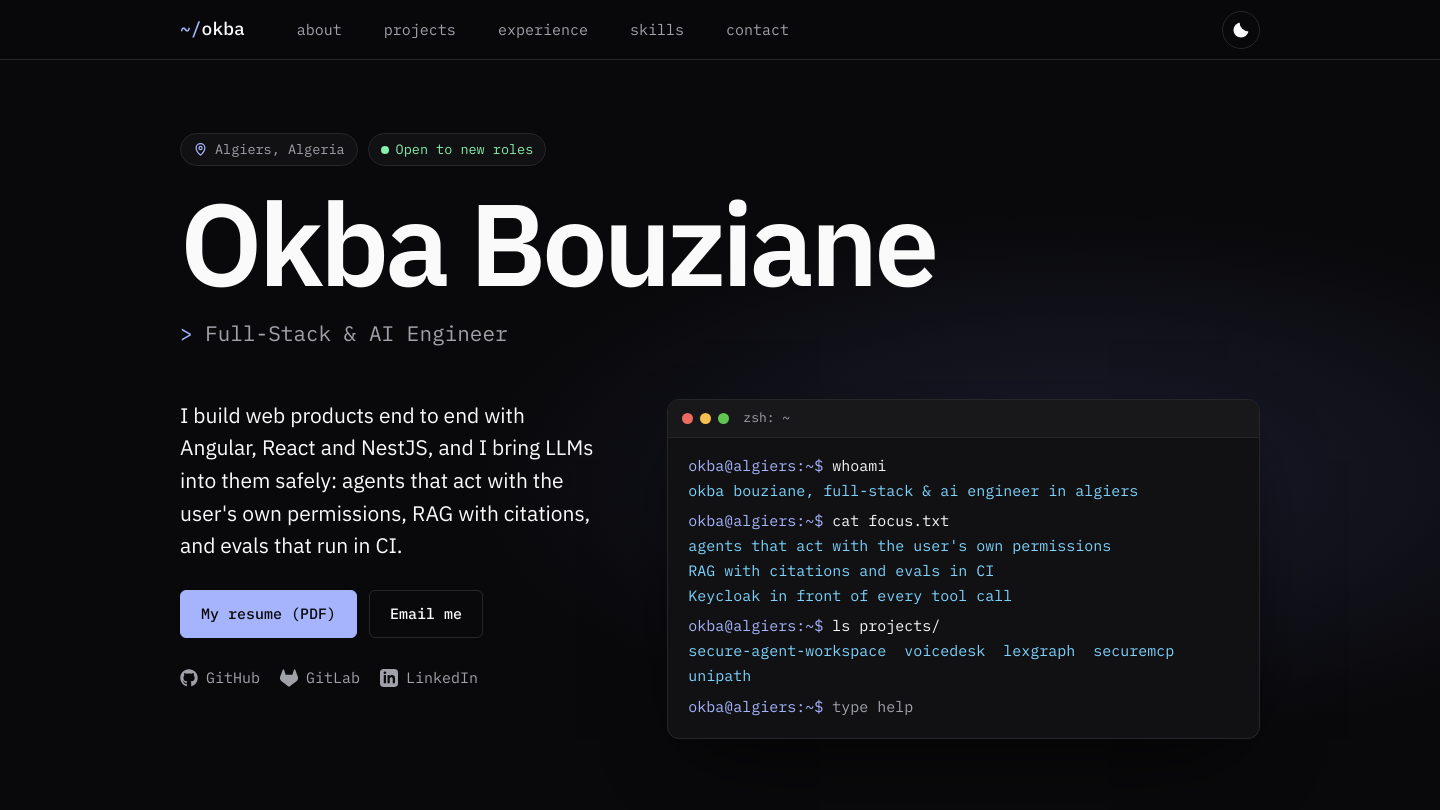
Test: terminal answers commands
Type "help" into the field named "terminal command". click: (1036, 707)
box: 832,695 -> 1239,719
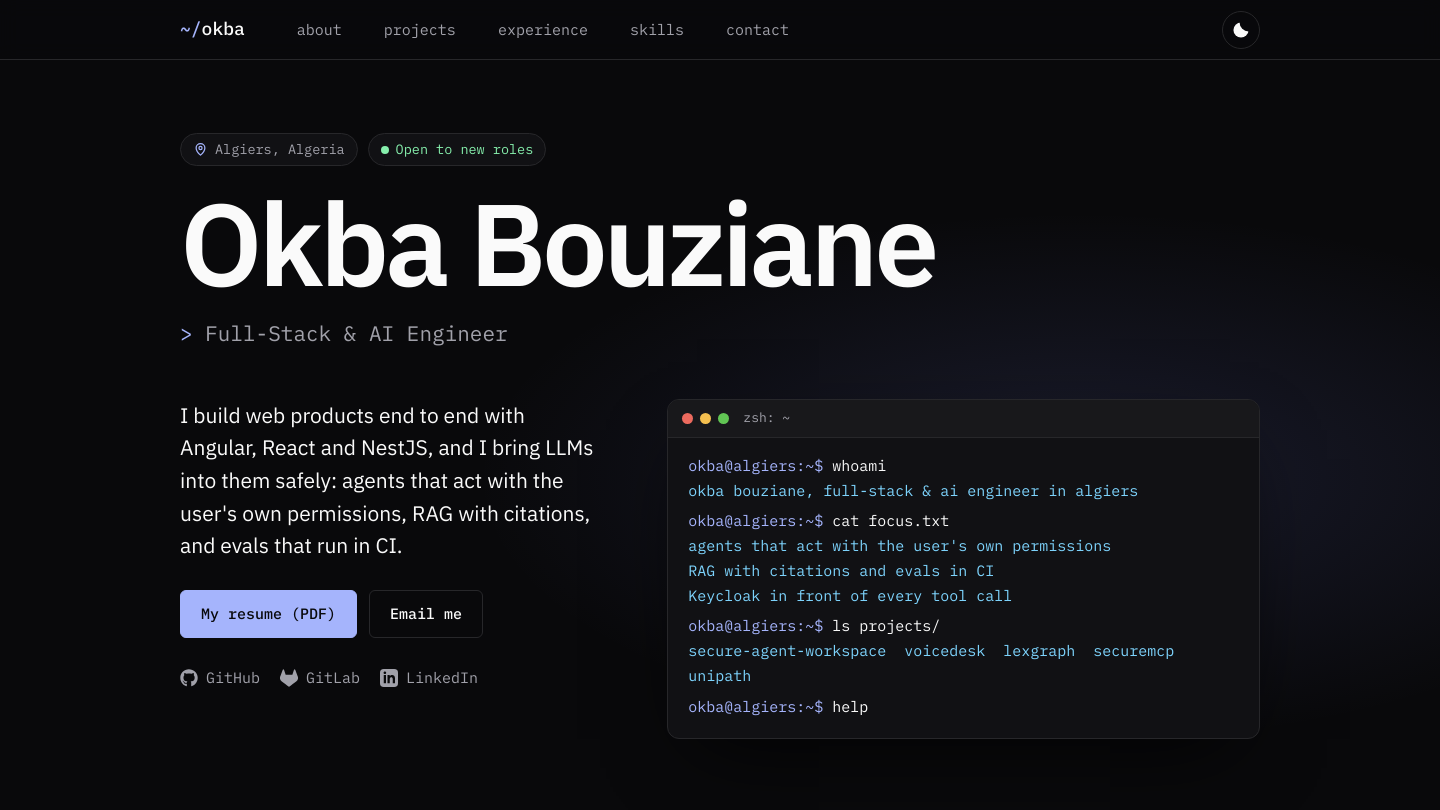
Press Enter in the field named "terminal command", box 832,695 -> 1239,719
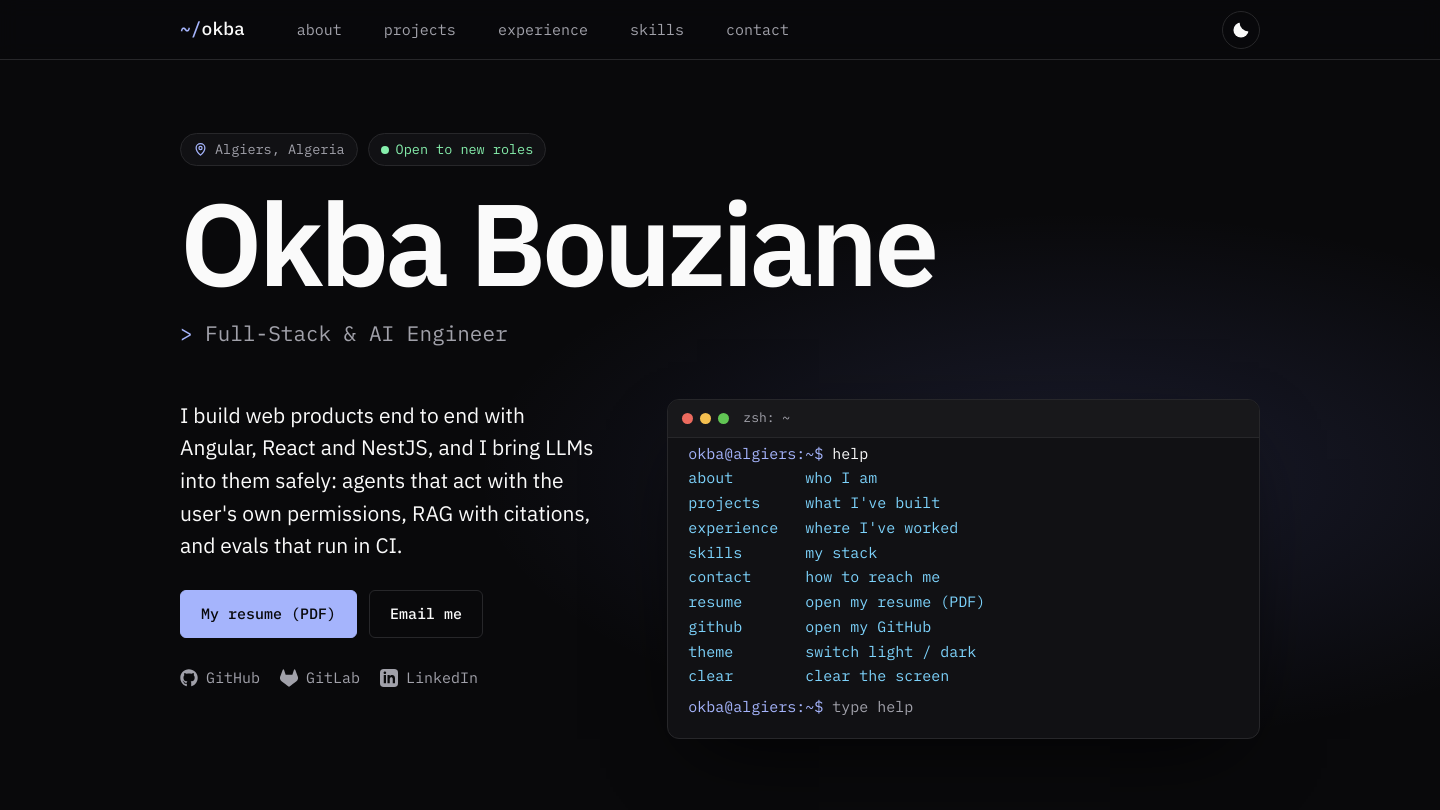
Expected: the text "resume open my resume (PDF)" is shown, 688,592 -> 985,611
Type "nope" into the field named "terminal command". click: (1036, 708)
box: 832,695 -> 1239,720
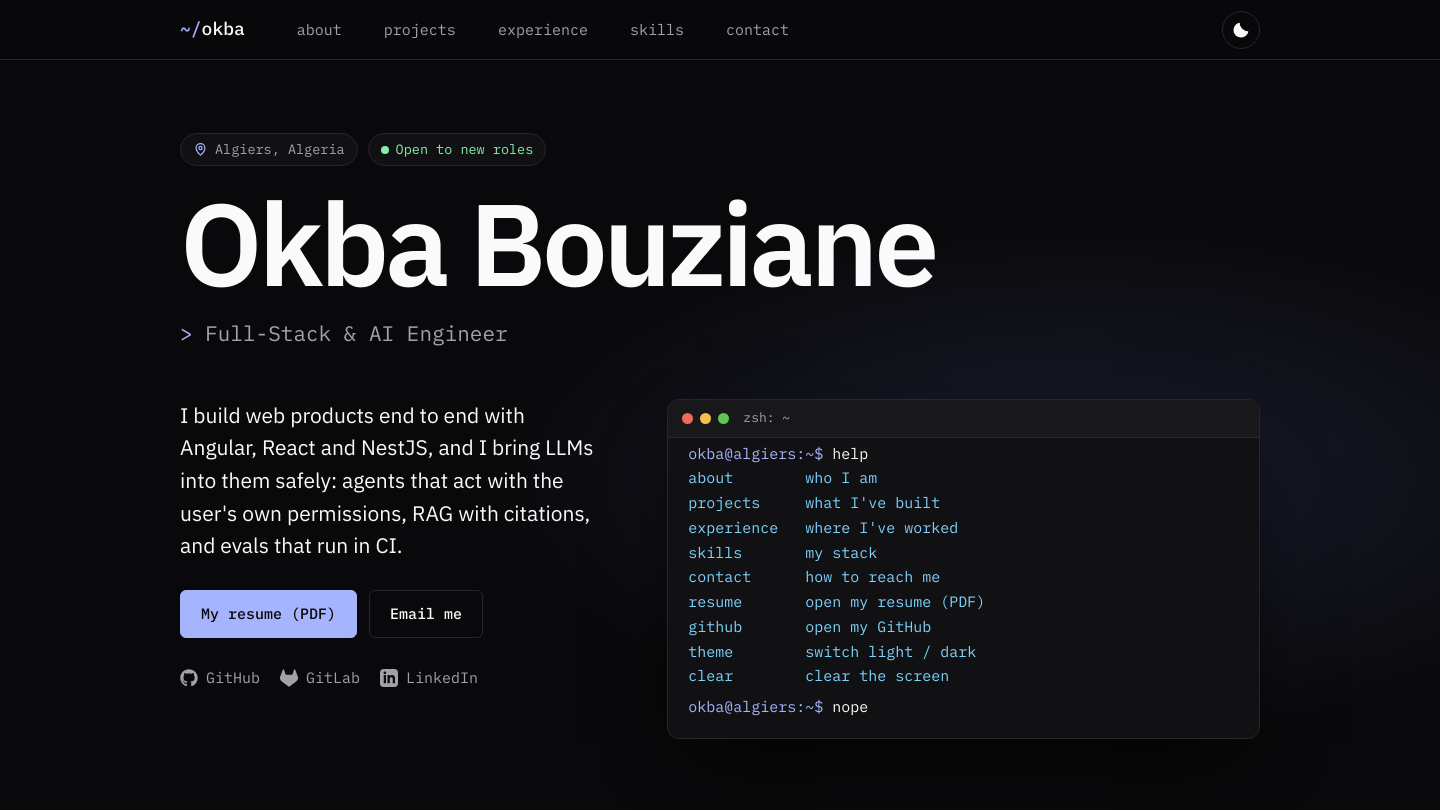
Press Enter in the field named "terminal command", box 832,695 -> 1239,720
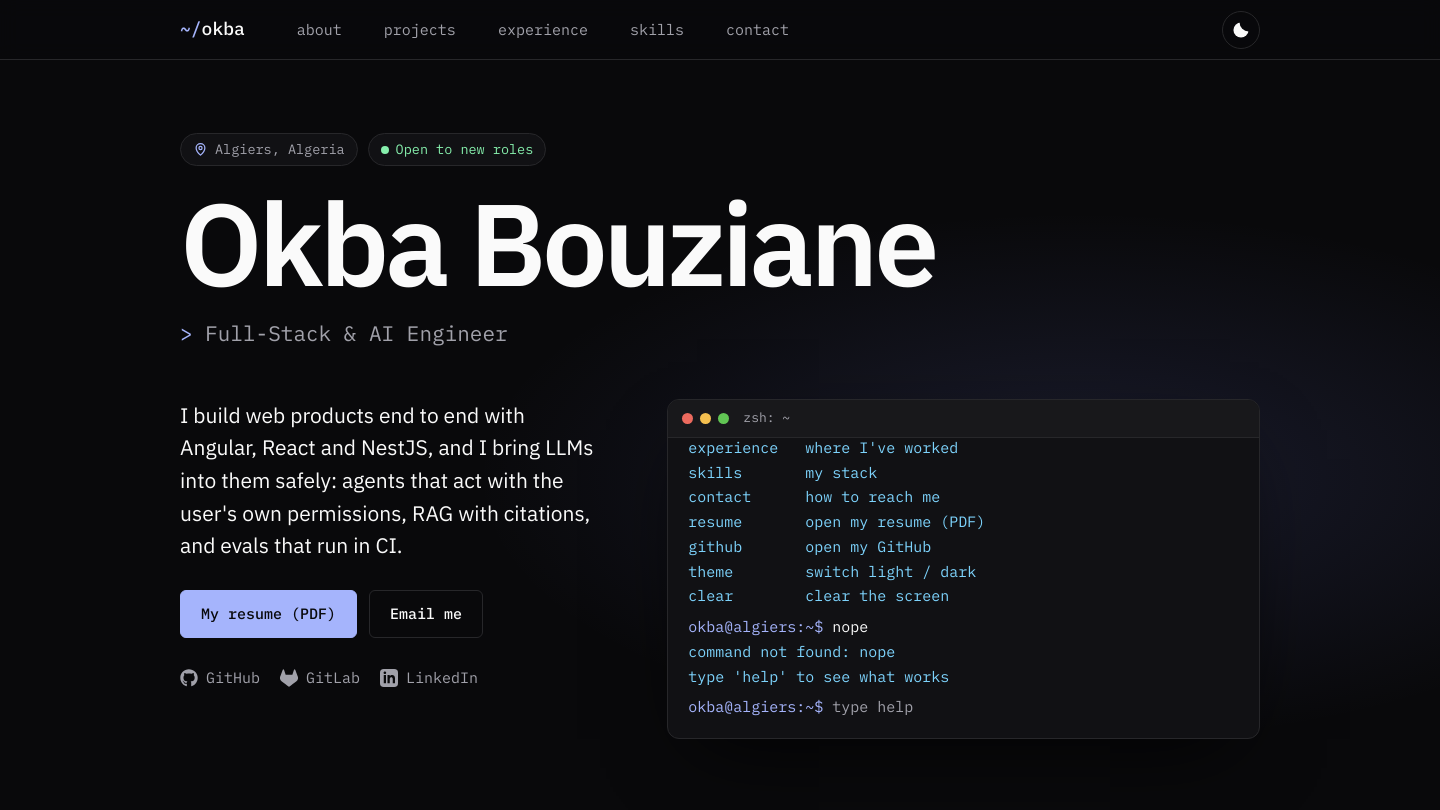
Expected: the text "command not found: nope" is shown, 688,642 -> 895,661
